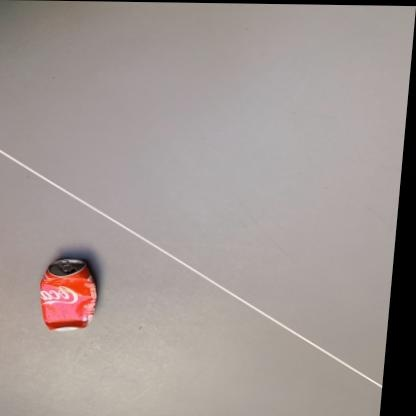trash: (40, 258, 96, 329)
